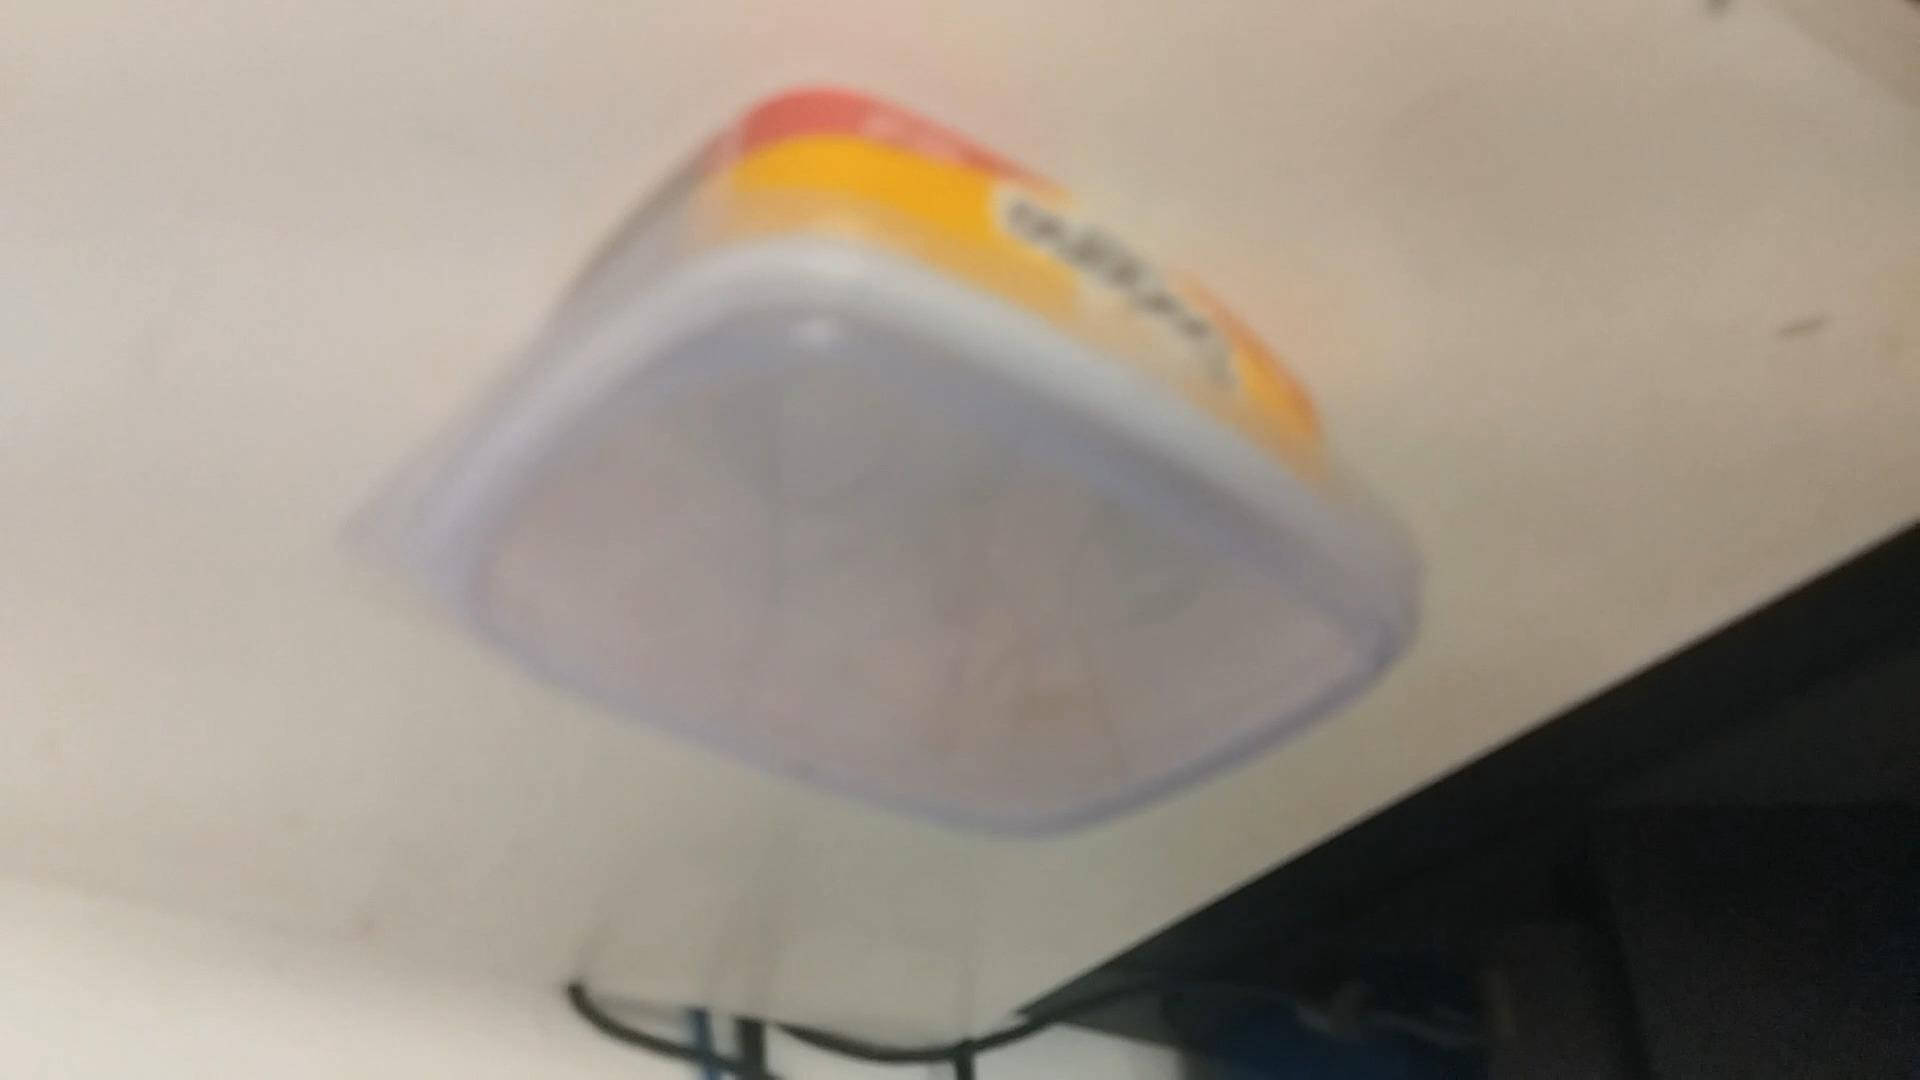butter: (351, 107, 1415, 841)
